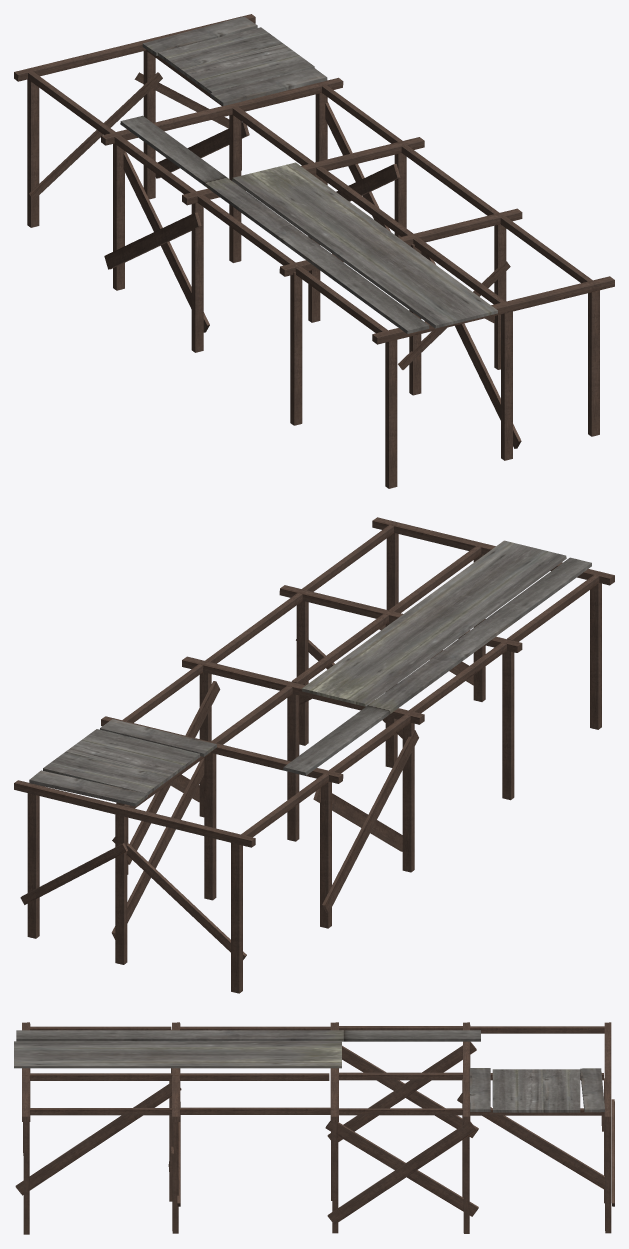
File: jov_Pier2d.fbx
3 views of the same model, one above another, from view 1: azimuth 30°, elevation 25°; view 2: azimuth 150°, elevation 25°; view 3: azimuth 270°, elevation 25° (orthographic). The views are drawn at different scales.
Parts seen in each view (by area): view 1: jov_Pier2d; view 2: jov_Pier2d; view 3: jov_Pier2d.
Part boxes in pixels (box(x1,y1,x2,y2)): jov_Pier2d: box(14, 14, 614, 488); jov_Pier2d: box(14, 517, 614, 993); jov_Pier2d: box(14, 1022, 614, 1234).
Size of the model in its own units: 405 by 262 by 1094.
